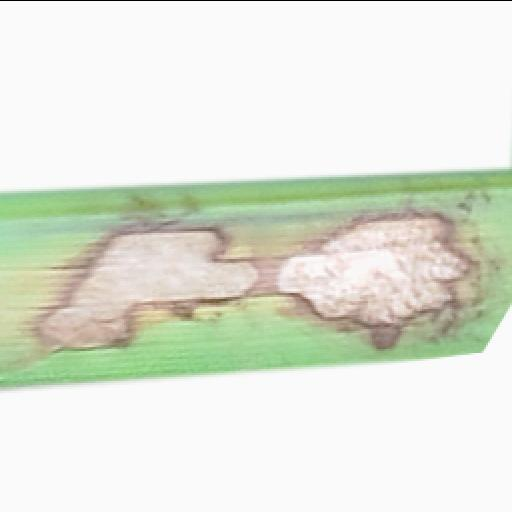Leaf Blast Disease: (14, 188, 264, 368), (266, 194, 502, 350)
